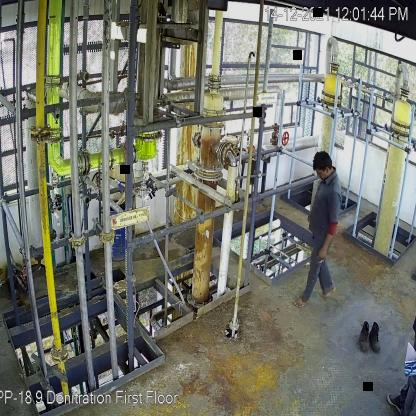no_shoes: (320, 285, 338, 298), (294, 293, 308, 308)
shoes: (358, 320, 373, 353), (370, 322, 382, 352)
